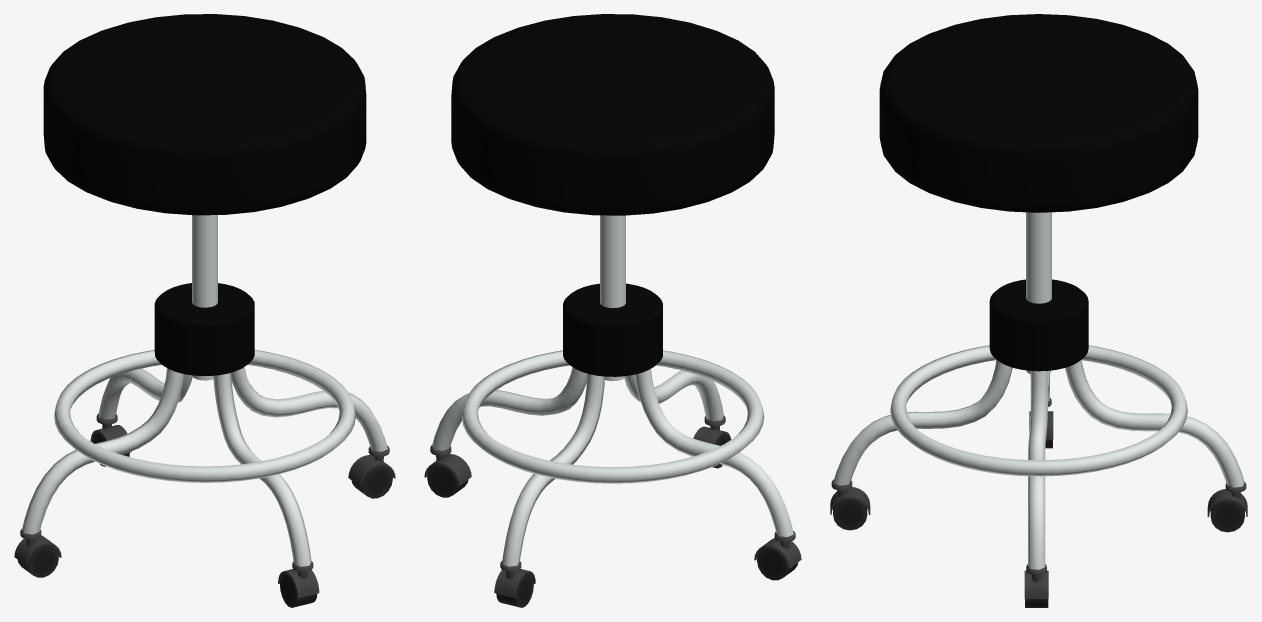
The model's file is Stool.fbx.
The picture shows the model from 3 angles, left to right: view 1: azimuth 30°, elevation 25°; view 2: azimuth 150°, elevation 25°; view 3: azimuth 270°, elevation 25°; orthographic projection.
Visible parts, largest first — view 1: Stool; view 2: Stool; view 3: Stool.
Part boxes in pixels (bbox=[...]): Stool: bbox=[14, 14, 395, 607]; Stool: bbox=[424, 14, 801, 607]; Stool: bbox=[830, 14, 1247, 607].
Size of the model in its own units: 51.31 by 60.97 by 51.31.
1 material, 1 textured.
